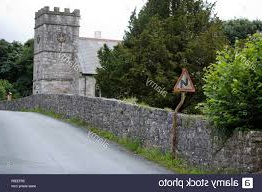Double_bend_right: (172, 67, 198, 93)
